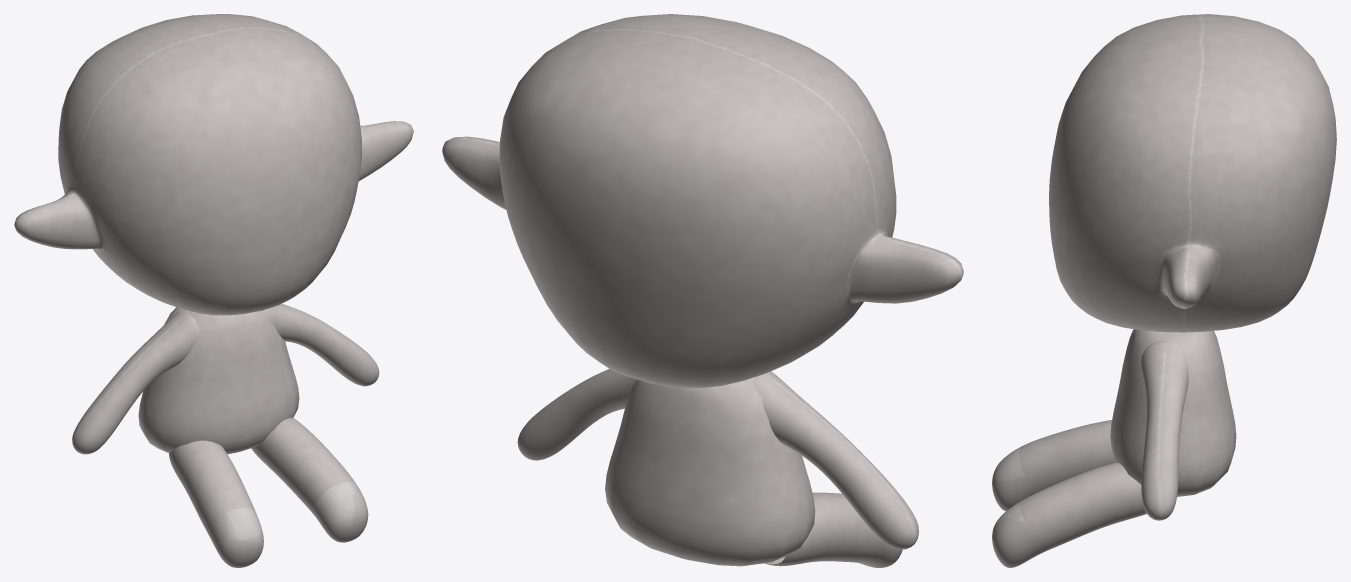
Rendered from Pale.glb.
3 renders of one model, left to right at view 1: azimuth 30°, elevation 25°; view 2: azimuth 150°, elevation 25°; view 3: azimuth 270°, elevation 25°, orthographic. The views are drawn at different scales.
Visible parts, largest first — view 1: Pale; view 2: Pale; view 3: Pale.
Boxes of the visible parts, x1=… form: Pale: x1=14, y1=14, x2=413, y2=567; Pale: x1=442, y1=14, x2=963, y2=567; Pale: x1=992, y1=14, x2=1336, y2=567.
Bounding box in the file's own units: 1.34 × 1.47 × 0.9208.
1 material, 1 textured.
